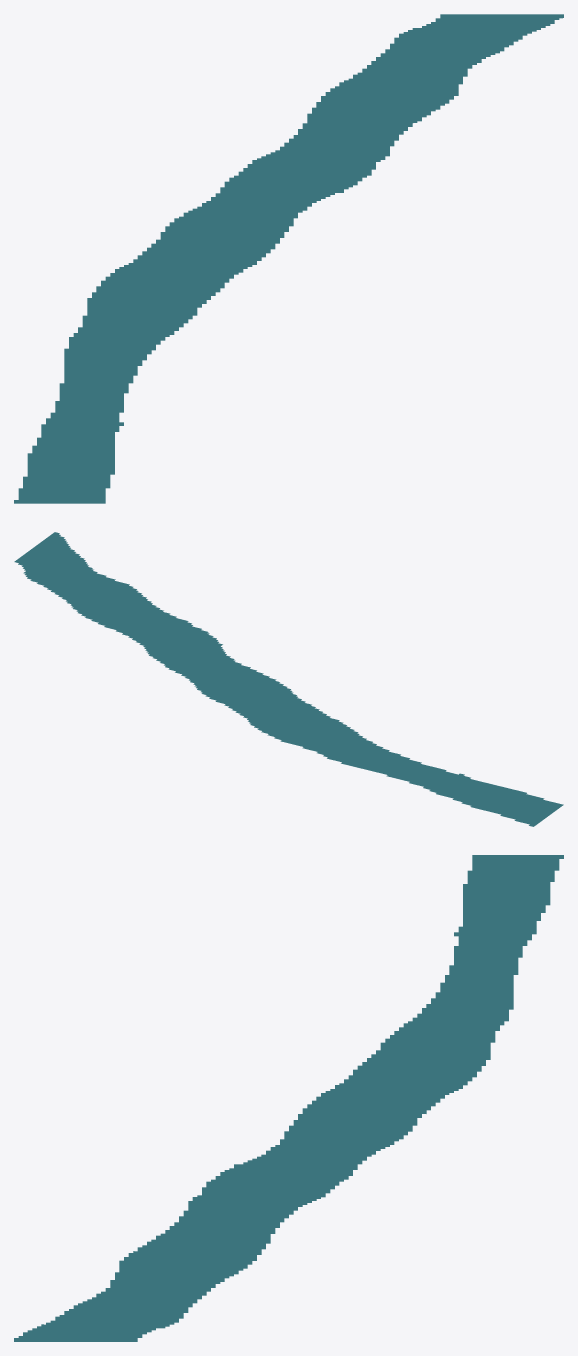
File: eau-reference-2-1.glb
3 views of the same model, one above another, from view 1: azimuth 90°, elevation 25°; view 2: azimuth 150°, elevation 25°; view 3: azimuth 270°, elevation 25° (orthographic). The views are drawn at different scales.
Parts seen in each view (by area): view 1: eau-reference-2-1; view 2: eau-reference-2-1; view 3: eau-reference-2-1.
Part boxes in pixels (x1,y1,x2,y2): eau-reference-2-1: [14, 14, 563, 503]; eau-reference-2-1: [14, 532, 563, 826]; eau-reference-2-1: [14, 855, 563, 1341].
Bounding box in the file's own units: 1008 × 1.27 × 480.
